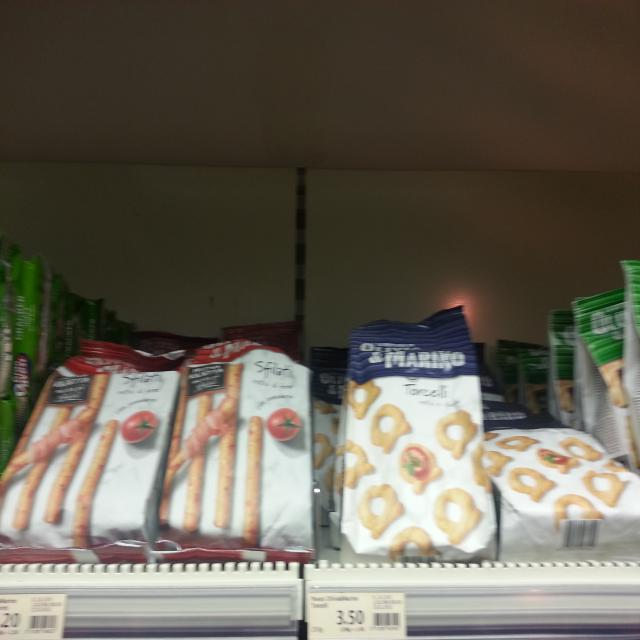Snacks: (0, 336, 186, 558), (339, 327, 498, 569), (158, 322, 312, 566), (477, 410, 640, 561)
